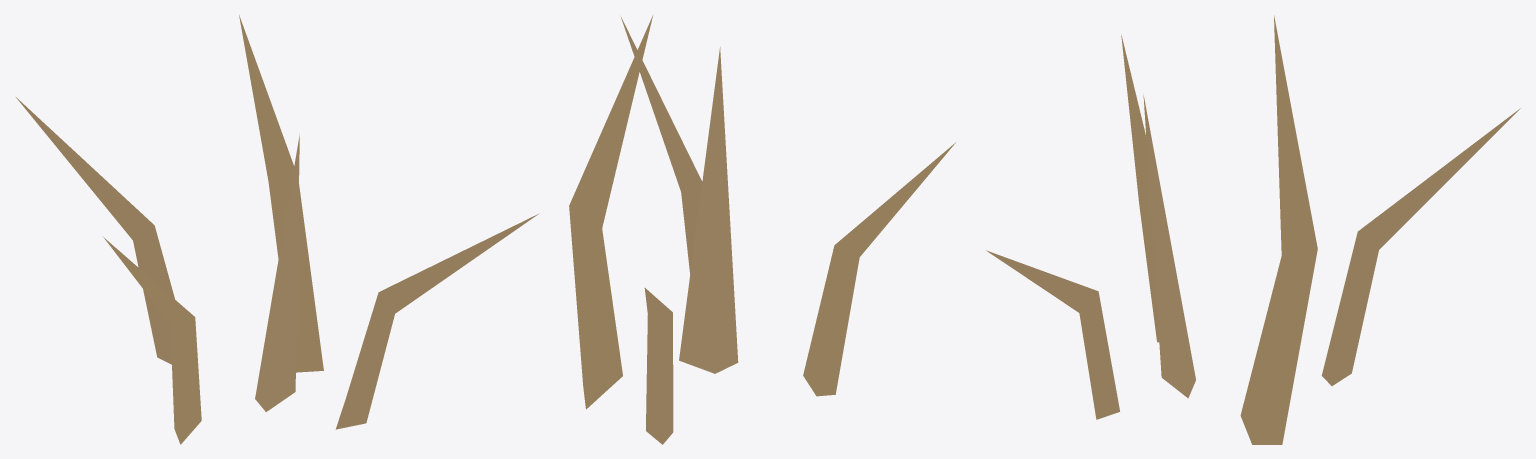
Rendered from Grass3D_b_04.fbx.
3 renders of one model, left to right at view 1: azimuth 30°, elevation 25°; view 2: azimuth 150°, elevation 25°; view 3: azimuth 270°, elevation 25°, orthographic. The views are drawn at different scales.
Parts seen in each view (by area): view 1: Grass3D_b_04; view 2: Grass3D_b_04; view 3: Grass3D_b_04.
Part boxes in pixels (<box>): Grass3D_b_04: <box>16,15,539,444</box>; Grass3D_b_04: <box>569,15,955,444</box>; Grass3D_b_04: <box>986,15,1520,444</box>.
Bounding box in the file's own units: 0.7266 × 0.6976 × 0.847.
